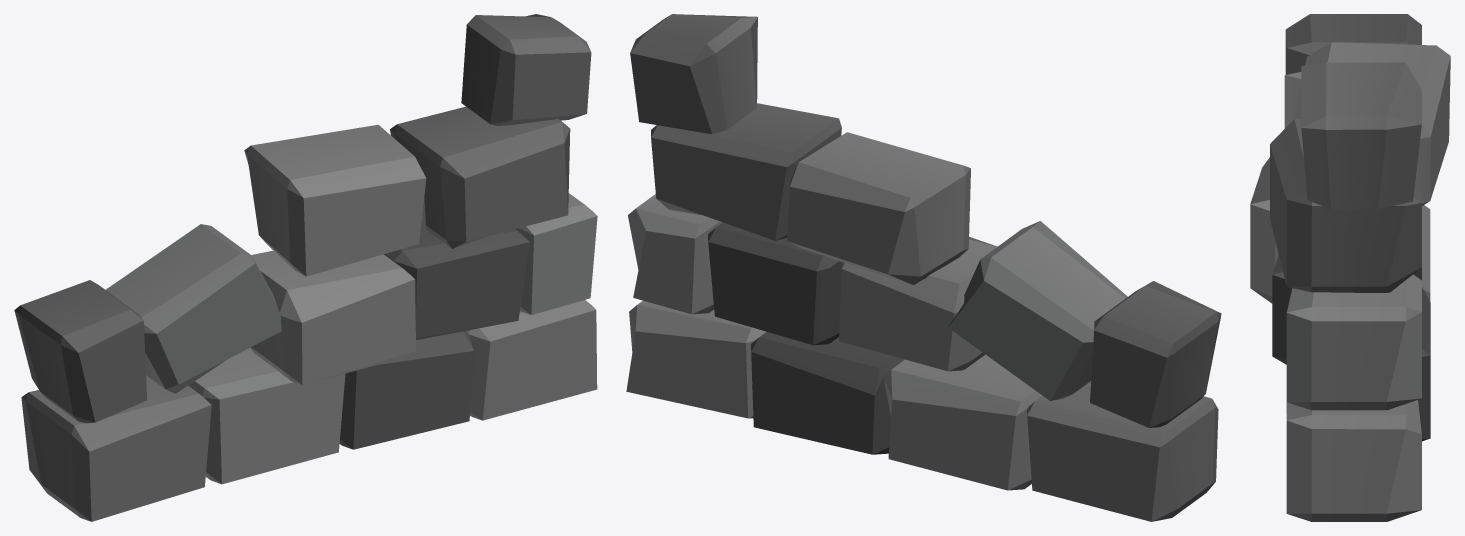
The model's file is Fence_Rock_D.fbx.
3 renders of one model, left to right at view 1: azimuth 30°, elevation 25°; view 2: azimuth 150°, elevation 25°; view 3: azimuth 270°, elevation 25°, orthographic. The views are drawn at different scales.
Parts seen in each view (by area): view 1: Fence_Rock_D; view 2: Fence_Rock_D; view 3: Fence_Rock_D.
Boxes of the visible parts, box(x1,y1,x2,y2) form: Fence_Rock_D: box(14, 14, 597, 521); Fence_Rock_D: box(626, 14, 1221, 521); Fence_Rock_D: box(1250, 14, 1450, 521).
Bounding box in the file's own units: 226 × 146 × 63.16.
